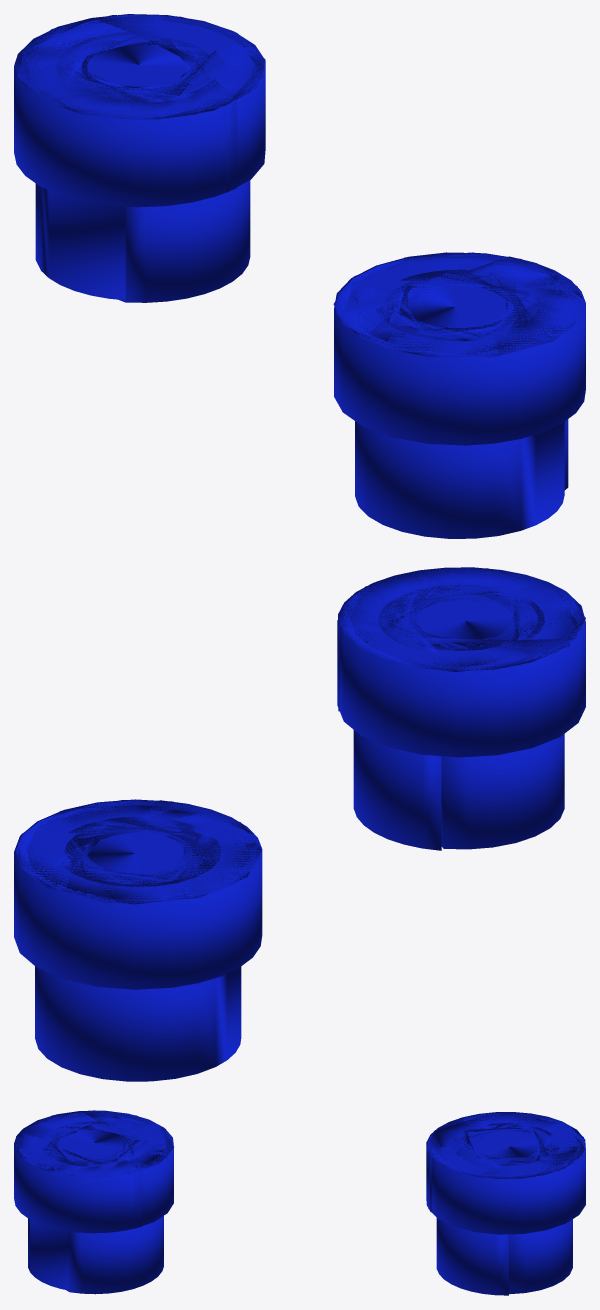
File: tuyeau_element_000070.obj
The picture shows the model from 3 angles, top to bottom: view 1: azimuth 30°, elevation 25°; view 2: azimuth 150°, elevation 25°; view 3: azimuth 270°, elevation 25°; orthographic projection. The views are drawn at different scales.
Parts seen in each view (by area): view 1: tuyeau1_Cube.014, tuyeau2_Cube.017; view 2: tuyeau2_Cube.017, tuyeau1_Cube.014; view 3: tuyeau1_Cube.014, tuyeau2_Cube.017.
Part boxes in pixels (box(x1,y1,x2,y2)): tuyeau1_Cube.014: box(14, 14, 265, 302); tuyeau2_Cube.017: box(333, 252, 585, 538); tuyeau2_Cube.017: box(337, 567, 585, 850); tuyeau1_Cube.014: box(14, 799, 262, 1081); tuyeau1_Cube.014: box(426, 1112, 585, 1295); tuyeau2_Cube.017: box(14, 1110, 173, 1294).
Size of the model in its own units: 3596 by 2917 by 12568.
